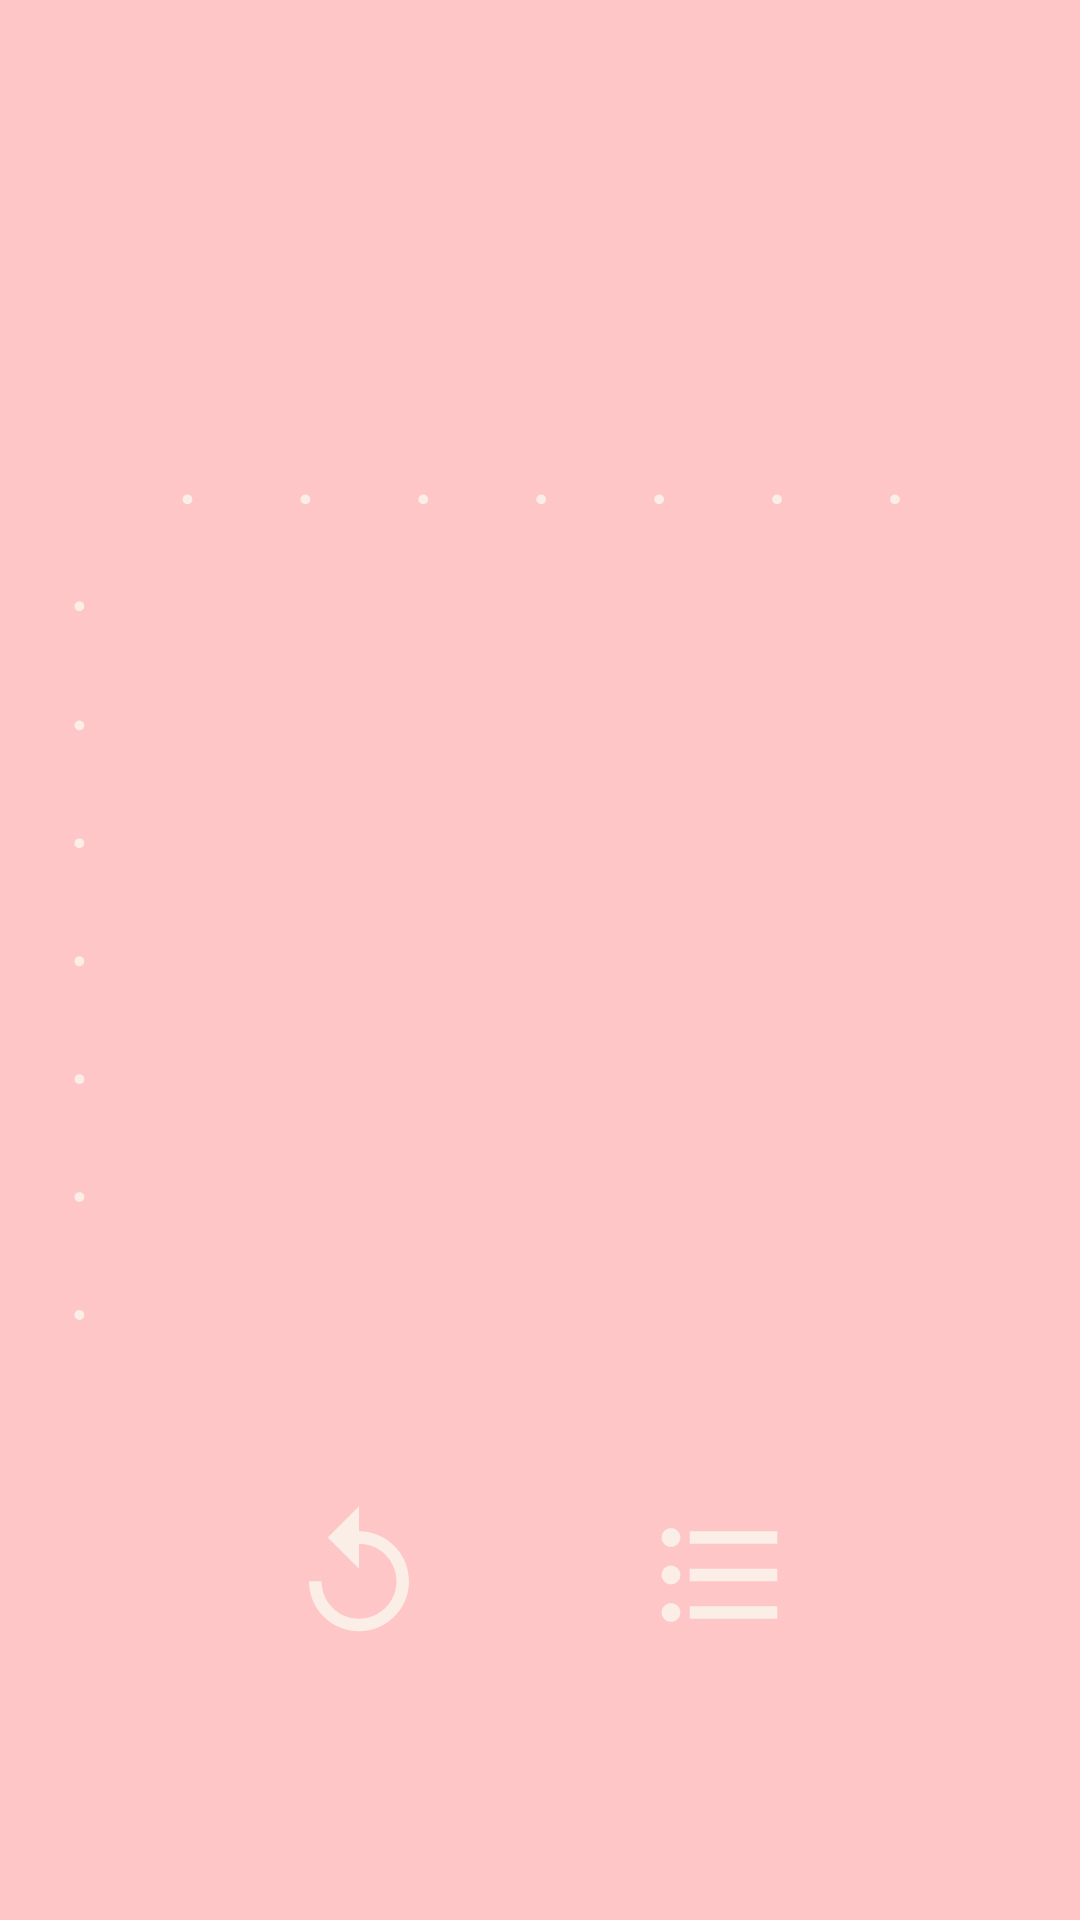

Named icons in this screenshot (1080px×1920px) and their bounding boxes, (x1, y1, x2, y2):
List of puzzles: (662, 1528, 777, 1622)
Start over: (309, 1507, 409, 1631)
